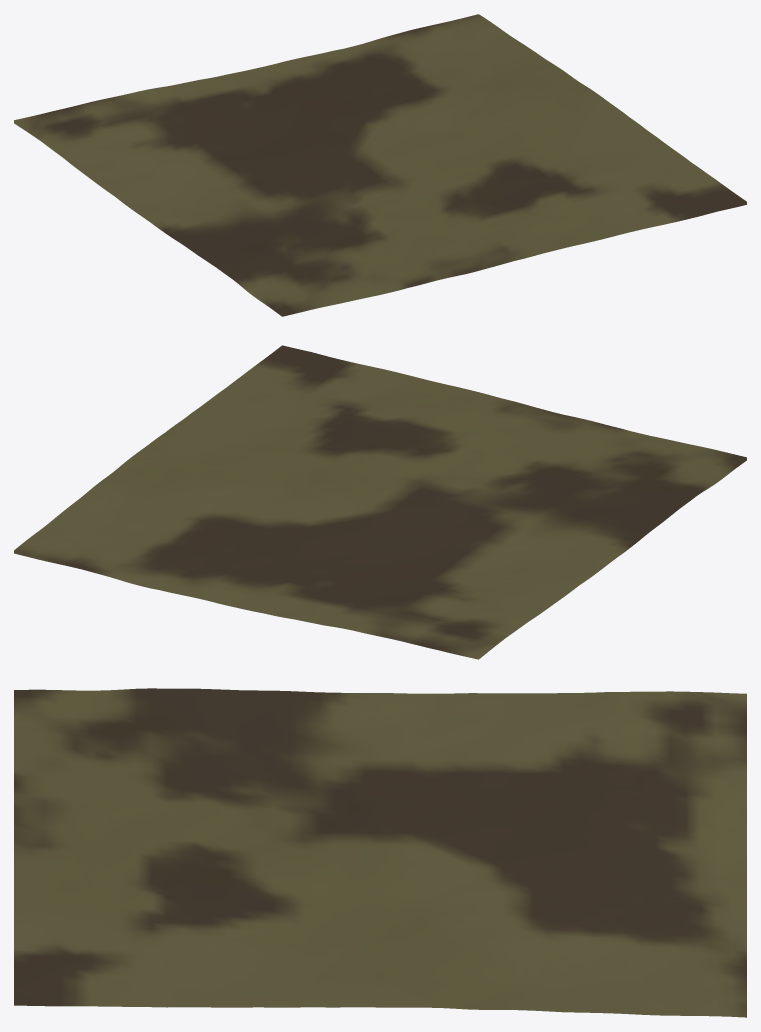
File: land_m_03_03.glb
The picture shows the model from 3 angles, top to bottom: view 1: azimuth 30°, elevation 25°; view 2: azimuth 150°, elevation 25°; view 3: azimuth 270°, elevation 25°; orthographic projection. The views are drawn at different scales.
Parts seen in each view (by area): view 1: land_m_03_03; view 2: land_m_03_03; view 3: land_m_03_03.
Boxes of the visible parts, box(x1,y1,x2,y2) form: land_m_03_03: box(14, 14, 746, 316); land_m_03_03: box(14, 345, 746, 659); land_m_03_03: box(14, 688, 746, 1017).
Bounding box in the file's own units: 960 × 31.3 × 960.
